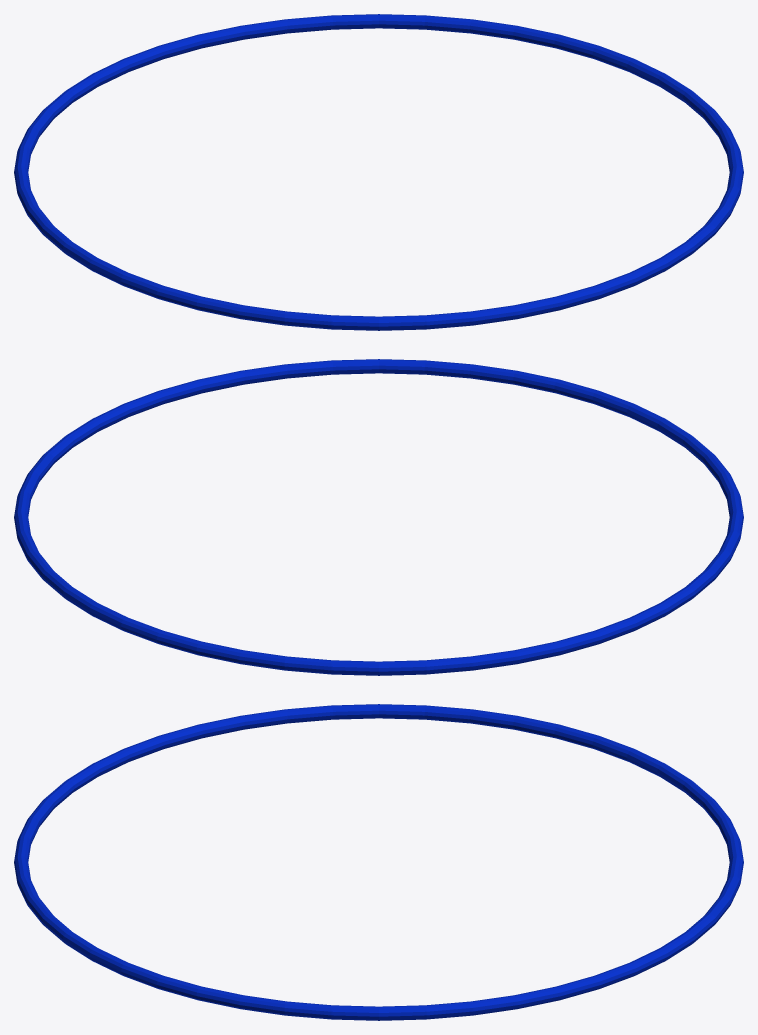
Rendered from ring_blue.obj.
The picture shows the model from 3 angles, top to bottom: view 1: azimuth 30°, elevation 25°; view 2: azimuth 150°, elevation 25°; view 3: azimuth 270°, elevation 25°; orthographic projection.
Parts seen in each view (by area): view 1: Torus; view 2: Torus; view 3: Torus.
Part boxes in pixels (bbox=[...]): Torus: bbox=[14, 14, 743, 330]; Torus: bbox=[14, 359, 743, 675]; Torus: bbox=[14, 704, 743, 1020].
Bounding box in the file's own units: 2.04 × 0.04 × 2.04.
